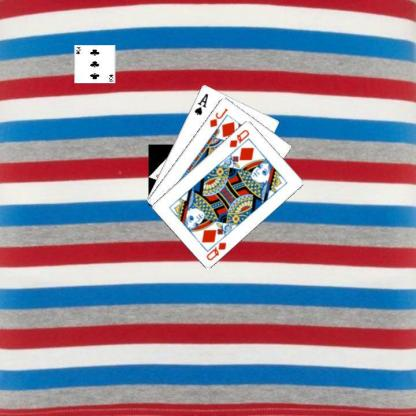AS: (192, 91, 209, 116)
JD: (207, 105, 229, 128)
QD: (203, 239, 228, 262), (226, 126, 251, 148)
